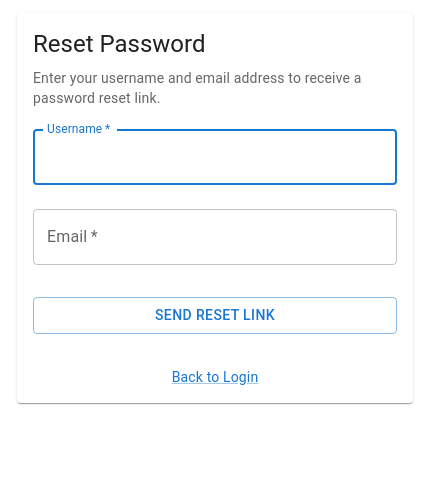
Test case: ForgotPassword › shows the backend message when the request is rejected with one (e.g. rate limiting)
The image size is (431, 486).
In the field labelled "Username *": [215, 157] box [33, 129, 397, 185], type "alice"
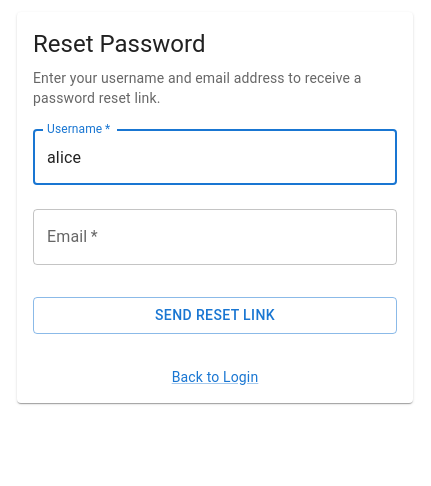
In the field labelled "Email *": [215, 237] box [33, 209, 397, 265], type "a@example.com"
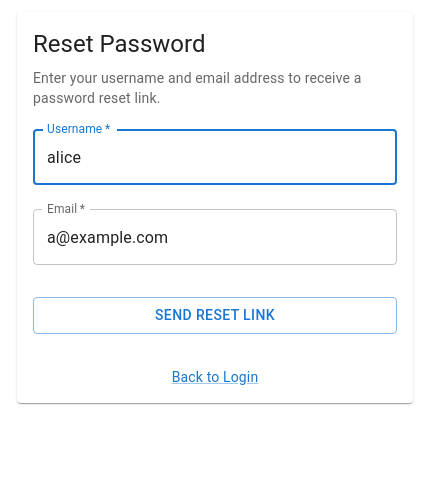
Click the button "Send Reset Link": [215, 316] box [33, 297, 397, 334]
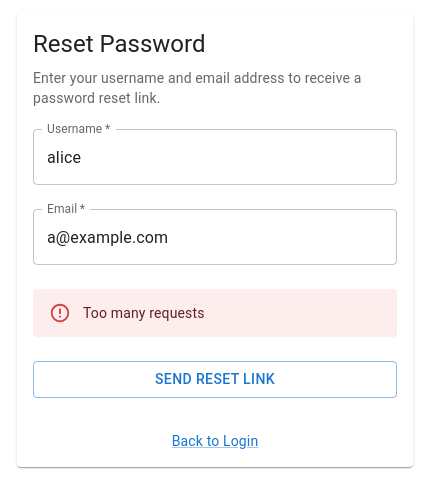
Now the text "Too many requests" is shown, box [83, 305, 205, 321]
